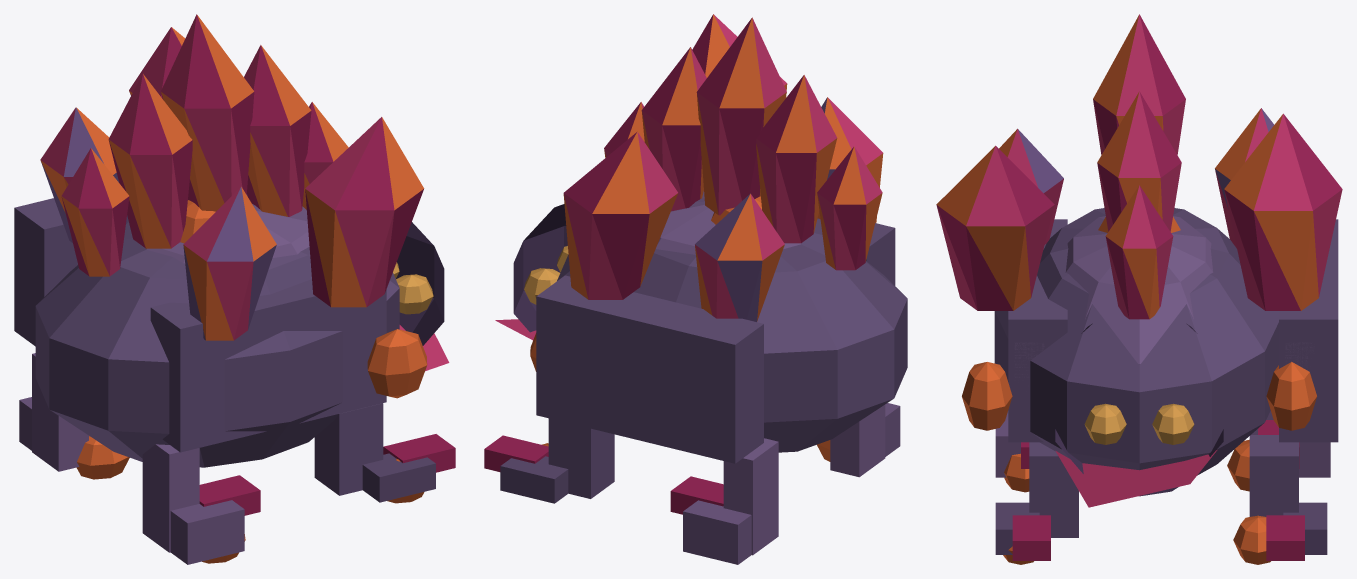
File: enemy-sentinel.glb
3 renders of one model, left to right at view 1: azimuth 30°, elevation 25°; view 2: azimuth 150°, elevation 25°; view 3: azimuth 270°, elevation 25°, orthographic. The views are drawn at different scales.
Visible parts, largest first — view 1: Sentinel heavy shield carapace; view 2: Sentinel heavy shield carapace; view 3: Sentinel heavy shield carapace.
Part boxes in pixels (box(x1,y1,x2,y2)): Sentinel heavy shield carapace: box(14, 14, 455, 564); Sentinel heavy shield carapace: box(484, 14, 907, 564); Sentinel heavy shield carapace: box(936, 14, 1342, 564).
Size of the model in its own units: 0.5283 by 0.6445 by 0.48.
